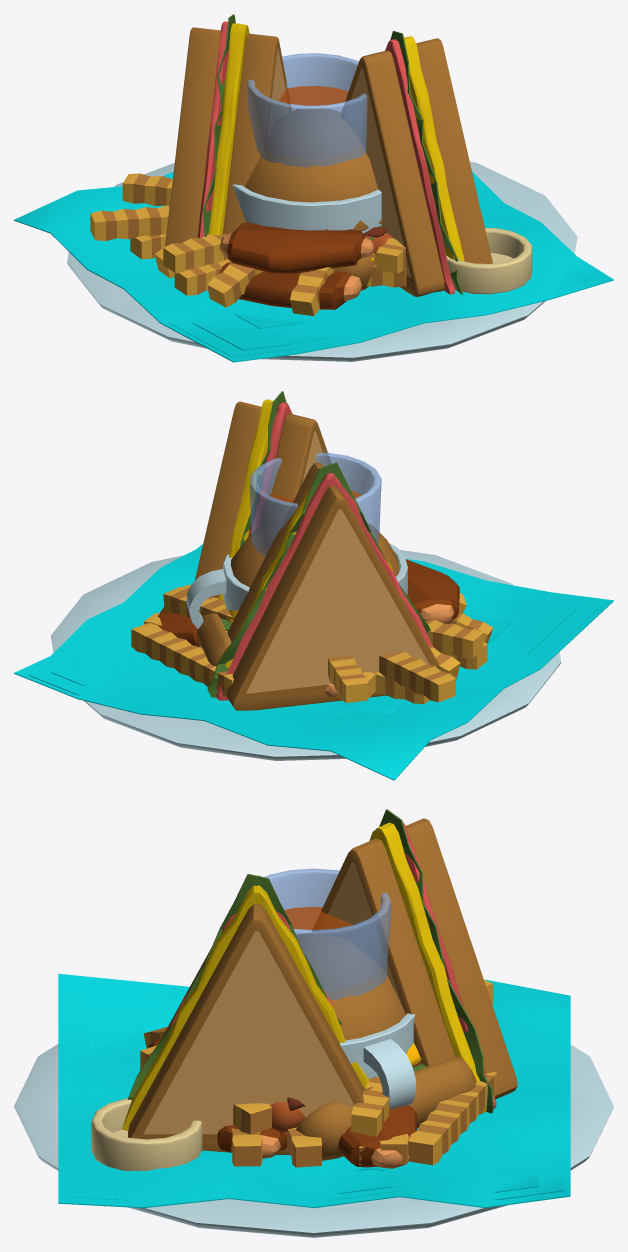
Rendered from chilidog.fbx.
The picture shows the model from 3 angles, top to bottom: view 1: azimuth 30°, elevation 25°; view 2: azimuth 150°, elevation 25°; view 3: azimuth 270°, elevation 25°; orthographic projection. The views are drawn at different scales.
Visible parts, largest first — view 1: bake_paper, Cube.022, Cube.014, Cylinder, Cylinder.003, bun_top, Cube.027, Cube.026, Cube.021, wing.007, Coffee, Cube.019 (+22 smaller); view 2: bake_paper, Cube.027, Cube.014, Cylinder, Cube.021, Cylinder.003, bake_paper.003, Cube.022, bake_paper.001, Cube.029, Cube.007, wing.007 (+16 smaller); view 3: bake_paper, Cube.021, Cube.014, Cube.026, Cylinder, Cylinder.003, Cube.027, bun_top, bake_paper.001, Cube.025, bake_paper.003, Cube.019 (+17 smaller).
Part boxes in pixels (left/top/right/bottom): bake_paper: left=14, top=171, right=613, bottom=362; Cube.022: left=341, top=50, right=444, bottom=296; Cube.014: left=67, top=161, right=577, bottom=361; Cylinder: left=247, top=53, right=366, bottom=167; Cylinder.003: left=247, top=54, right=366, bottom=166; bun_top: left=245, top=108, right=381, bottom=230; Cube.027: left=165, top=27, right=220, bottom=246; Cube.026: left=223, top=33, right=291, bottom=234; Cube.021: left=416, top=38, right=492, bottom=263; wing.007: left=220, top=222, right=373, bottom=273; Coffee: left=232, top=184, right=381, bottom=233; Cube.019: left=446, top=228, right=532, bottom=294; bake_paper: left=14, top=544, right=613, bottom=780; Cube.027: left=225, top=486, right=438, bottom=710; Cube.014: left=51, top=550, right=561, bottom=760; Cylinder: left=250, top=453, right=381, bottom=556; Cube.021: left=195, top=401, right=261, bottom=598; Cylinder.003: left=250, top=453, right=380, bottom=555; bake_paper.003: left=51, top=596, right=576, bottom=720; Cube.022: left=260, top=413, right=331, bottom=524; bake_paper.001: left=29, top=589, right=600, bottom=695; Cube.029: left=216, top=473, right=432, bottom=700; Cube.007: left=131, top=623, right=233, bottom=696; wing.007: left=405, top=559, right=459, bottom=623; bake_paper: left=58, top=973, right=570, bottom=1208; Cube.021: left=128, top=904, right=364, bottom=1154; Cube.014: left=14, top=1044, right=613, bottom=1237; Cube.026: left=312, top=838, right=455, bottom=1066; Cylinder: left=265, top=869, right=390, bottom=999; Cylinder.003: left=266, top=869, right=390, bottom=999; Cube.027: left=405, top=818, right=517, bottom=1099; bun_top: left=296, top=932, right=405, bottom=1040; bake_paper.001: left=75, top=979, right=563, bottom=1200; Cube.025: left=122, top=885, right=369, bottom=1130; bake_paper.003: left=90, top=992, right=538, bottom=1193; Cube.019: left=91, top=1098, right=202, bottom=1170.
Size of the model in its own units: 122 by 61.76 by 122.
